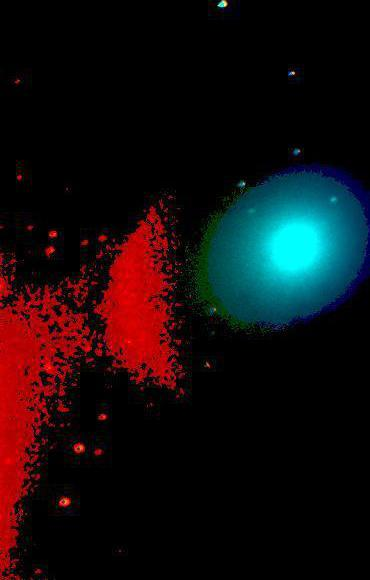star: (212, 184, 242, 214)
